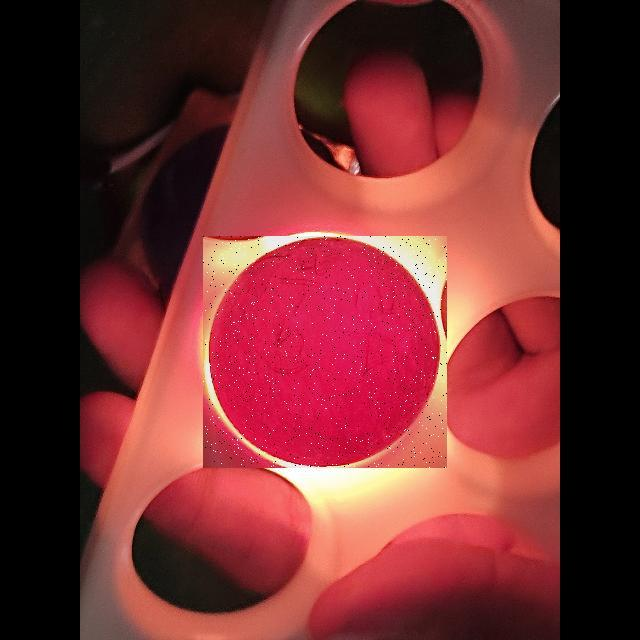Infertile: (203, 236, 447, 468)
